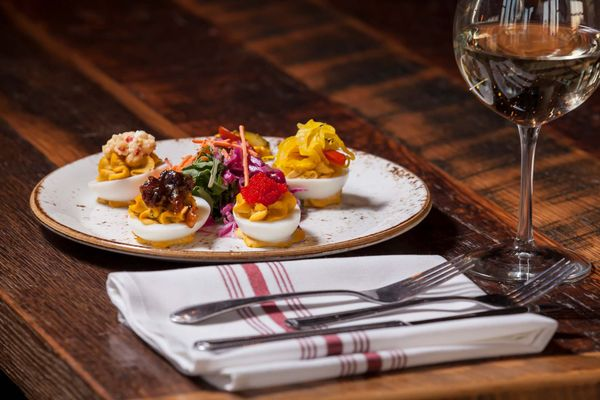burger: (167, 258, 587, 348), (149, 309, 563, 390), (171, 260, 509, 330)
